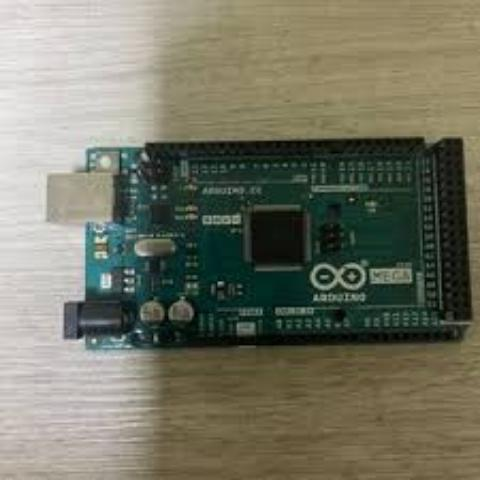Arduino-Mega: (36, 117, 480, 357)
